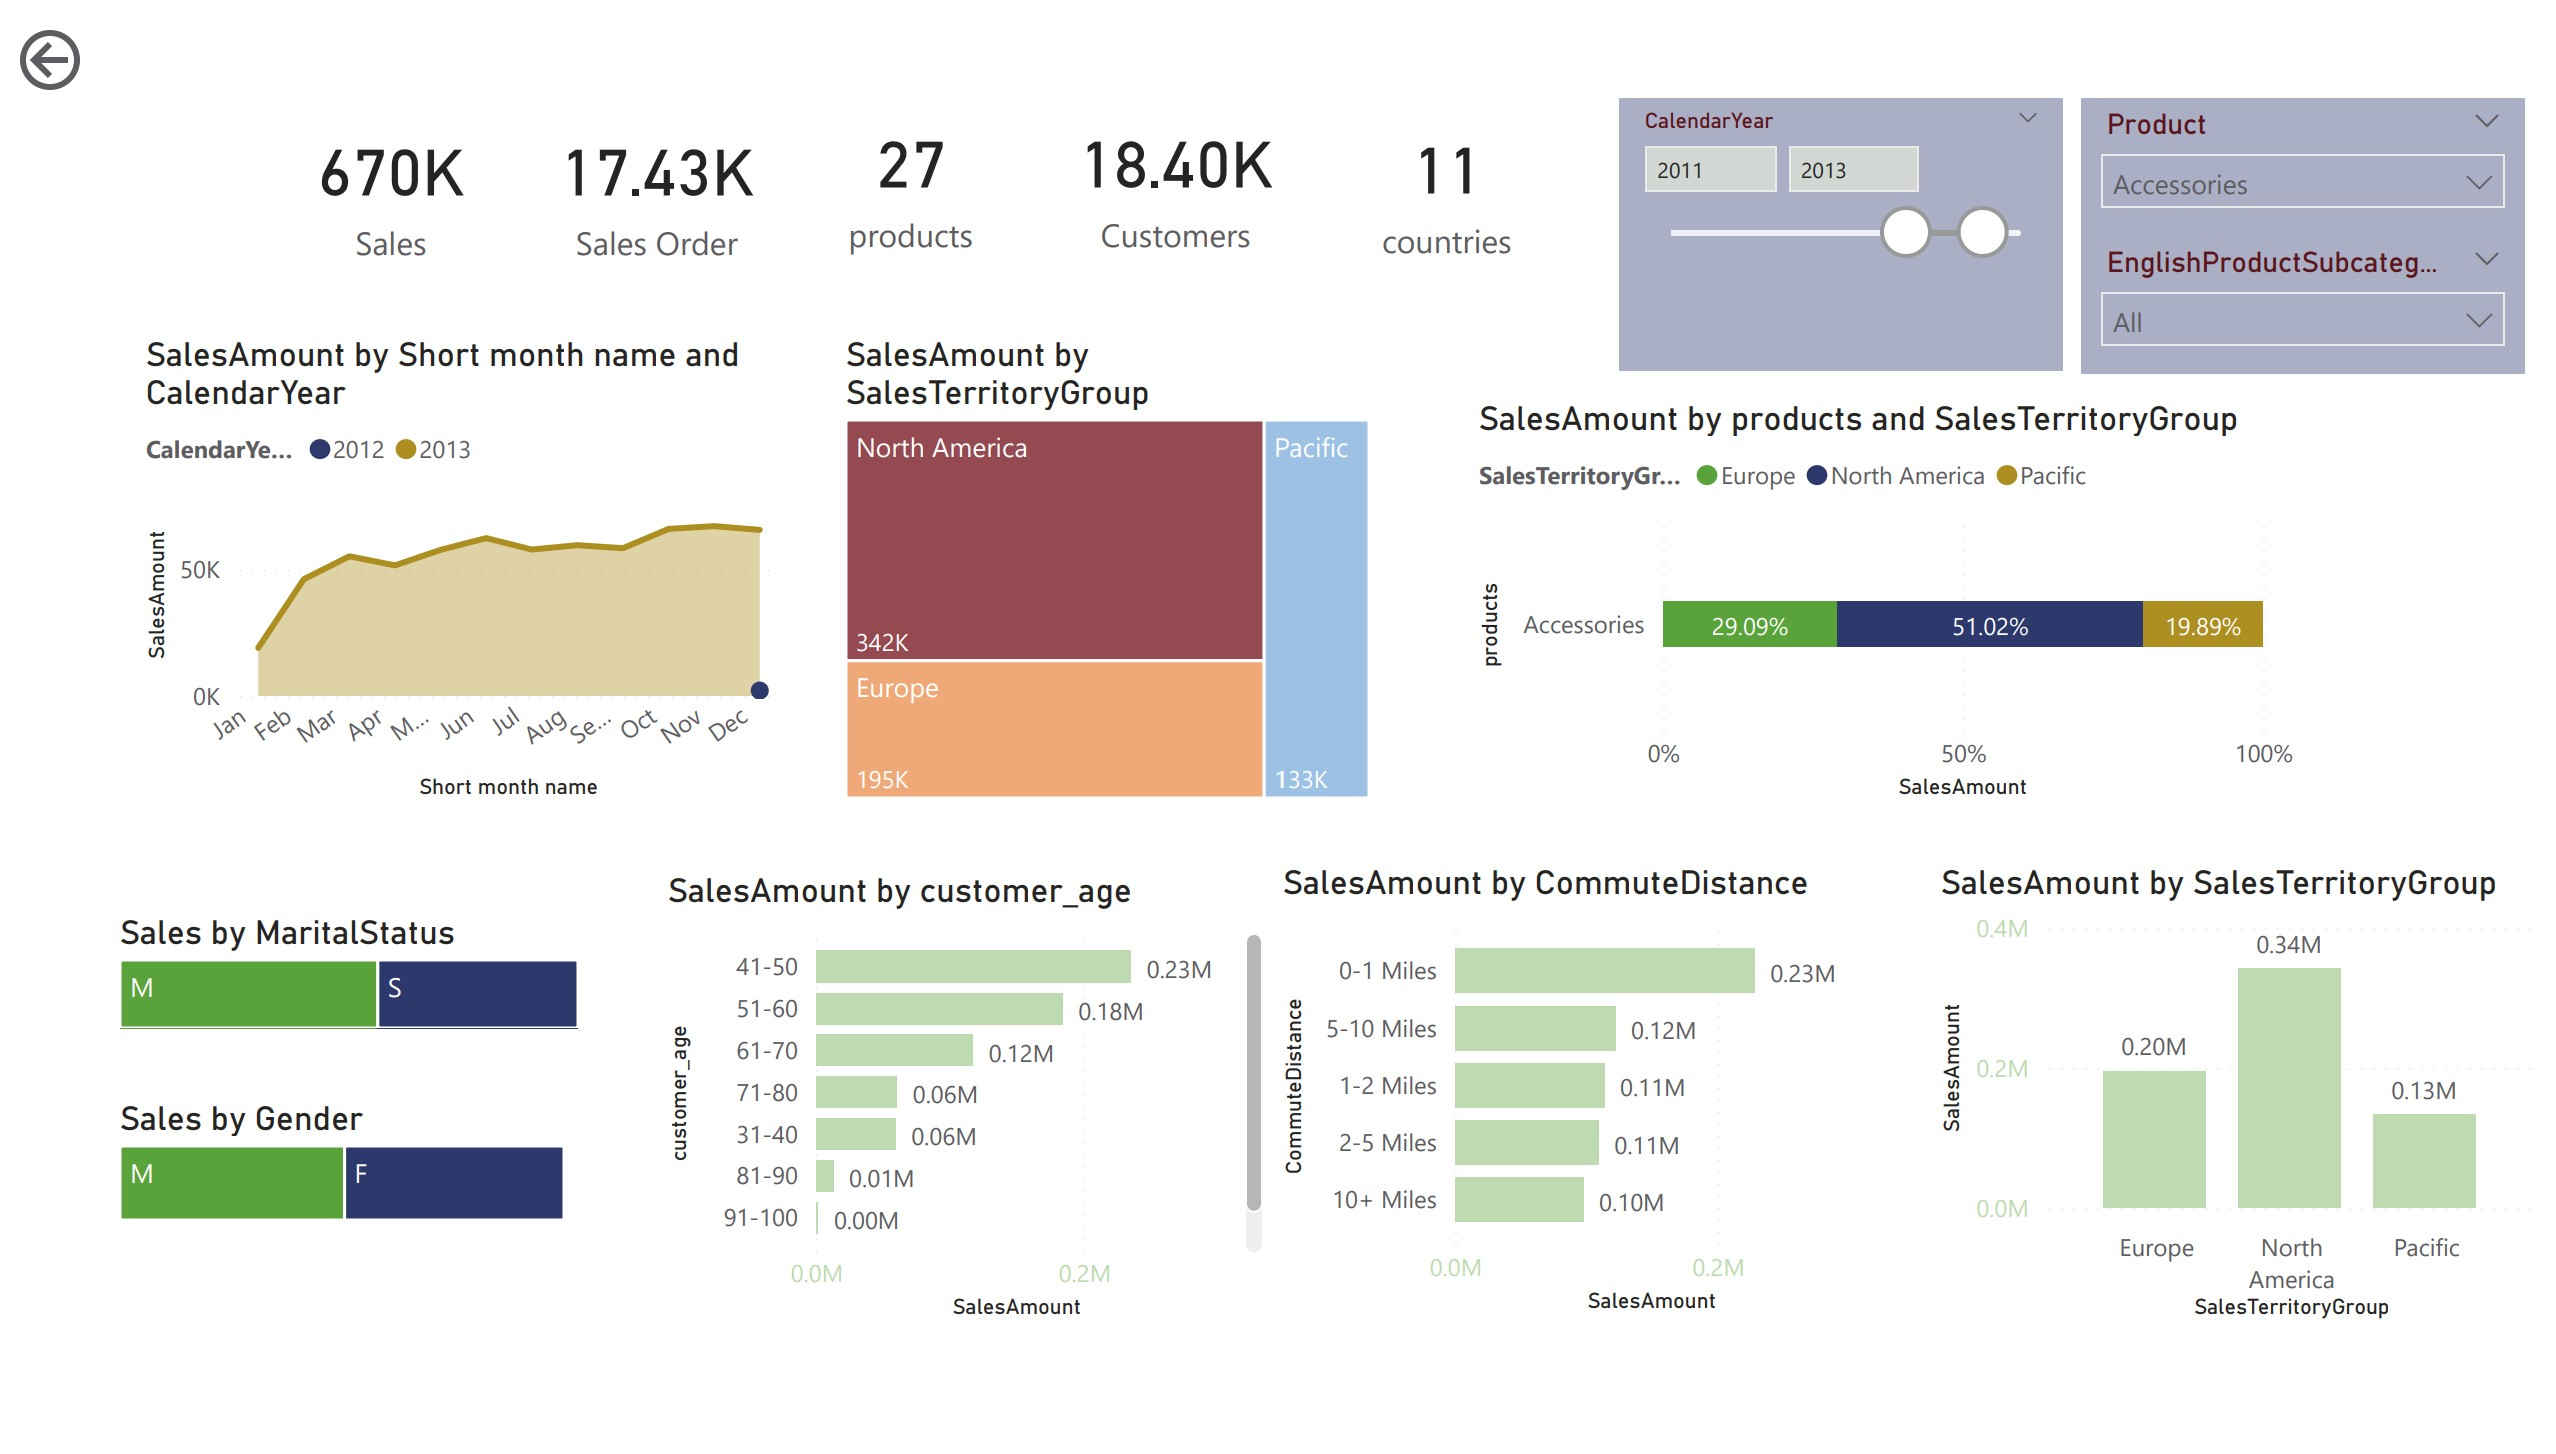

Layout of this report page (visuals, bound fields, positions):
{"tool":"powerbi","page":{"name":"SALES","canvas":[1280,720],"ordinal":0},"visuals":[{"type":"card","fields":{"Values":["MeasureTable.SalesAmount"]},"box":[122.2,41.1,136.7,88.9],"z":0},{"type":"actionButton","box":[0,1.1,100,40],"z":1000},{"type":"card","title":"SalesOrder","fields":{"Values":["FactInternetSales.SalesOrderNumber"]},"box":[258.4,40.7,130.9,89.1],"z":2000},{"type":"card","title":"SalesOrder","fields":{"Values":["DimProduct.EnglishDescription"]},"box":[389.3,37.4,123.2,89.1],"z":3000},{"type":"card","title":"SalesOrder","fields":{"Values":["DimCustomer.CustomerFullName"]},"box":[512.4,37.4,141.9,89.1],"z":4000},{"type":"card","title":"SalesOrder","fields":{"Values":["DimSalesTerritory.SalesTerritoryCountry"]},"box":[654.3,39.6,127.6,89.1],"z":5000},{"type":"slicer","fields":{"Values":["DimDate.CalendarYear"]},"box":[803.8,39.6,222.1,136.4],"z":6000},{"type":"slicer","fields":{"Values":["DimProductCategory.EnglishProductCategoryName"]},"box":[1034.8,39.6,222.1,69.3],"z":7000},{"type":"slicer","fields":{"Values":["DimProductSubCategory.EnglishProductSubcategoryName"]},"box":[1034.8,108.9,222.1,69.3],"z":8000},{"type":"areaChart","fields":{"Y":["MeasureTable.SalesAmount"],"Category":["DimDate.Short month name"],"Series":["DimDate.CalendarYear"]},"box":[62.7,158.4,326.6,236.4],"z":9000},{"type":"treemap","fields":{"Values":["MeasureTable.SalesAmount"],"Group":["DimSalesTerritory.SalesTerritoryGroup"]},"box":[413.5,158.4,270.5,236.4],"z":10000},{"type":"hundredPercentStackedBarChart","fields":{"Series":["DimSalesTerritory.SalesTerritoryGroup"],"Category":["DimProductCategory.EnglishProductCategoryName"],"Y":["MeasureTable.SalesAmount"]},"box":[729.1,190.2,416.8,204.5],"z":11000},{"type":"treemap","title":"Sales by MaritalStatus","fields":{"Group":["DimCustomer.MaritalStatus"],"Values":["MeasureTable.SalesAmount"]},"box":[50,446.7,238.9,63.3],"z":12000},{"type":"treemap","title":"Sales by Gender","fields":{"Values":["DimCustomer.Gender"],"Group":["DimCustomer.Gender"]},"box":[50,540,232.2,65.6],"z":13000},{"type":"barChart","fields":{"Category":["DimCustomer.customer_age"],"Y":["MeasureTable.SalesAmount"]},"box":[324.4,425.6,306.8,229.8],"z":14000},{"type":"barChart","fields":{"Y":["MeasureTable.SalesAmount"],"Category":["DimCustomer.CommuteDistance"]},"box":[631.2,422.3,306.8,229.8],"z":15000},{"type":"columnChart","fields":{"Category":["DimSalesTerritory.SalesTerritoryGroup","DimGeography.StateProvinceName"],"Y":["MeasureTable.SalesAmount"]},"box":[960,422.3,306.8,233.1],"z":16000}]}

Visuals, with their boxes in screenshot pixels (x1, y1, x2, y2), scaled from the page's 1280x720 canvas onto the 2556x1454 screenshot:
card - MeasureTable.SalesAmount: 244/83/517/263
actionButton: 0/2/200/83
"SalesOrder" card: 516/82/777/262
"SalesOrder" card: 777/76/1023/255
"SalesOrder" card: 1023/76/1307/255
"SalesOrder" card: 1307/80/1561/260
slicer - DimDate.CalendarYear: 1605/80/2049/355
slicer - DimProductCategory.EnglishProductCategoryName: 2066/80/2510/220
slicer - DimProductSubCategory.EnglishProductSubcategoryName: 2066/220/2510/360
areaChart - MeasureTable.SalesAmount x DimDate.Short month name: 125/320/777/797
treemap - MeasureTable.SalesAmount x DimSalesTerritory.SalesTerritoryGroup: 826/320/1366/797
hundredPercentStackedBarChart - DimSalesTerritory.SalesTerritoryGroup x DimProductCategory.EnglishProductCategoryName: 1456/384/2288/797
"Sales by MaritalStatus" treemap: 100/902/577/1030
"Sales by Gender" treemap: 100/1090/564/1223
barChart - DimCustomer.customer_age x MeasureTable.SalesAmount: 648/859/1260/1324
barChart - MeasureTable.SalesAmount x DimCustomer.CommuteDistance: 1260/853/1873/1317
columnChart - DimSalesTerritory.SalesTerritoryGroup x DimGeography.StateProvinceName: 1917/853/2530/1324
